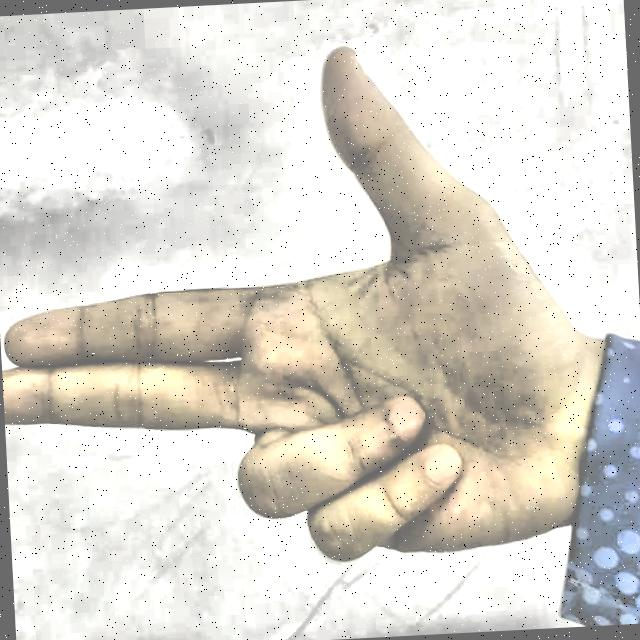Jha: (0, 10, 607, 626)
